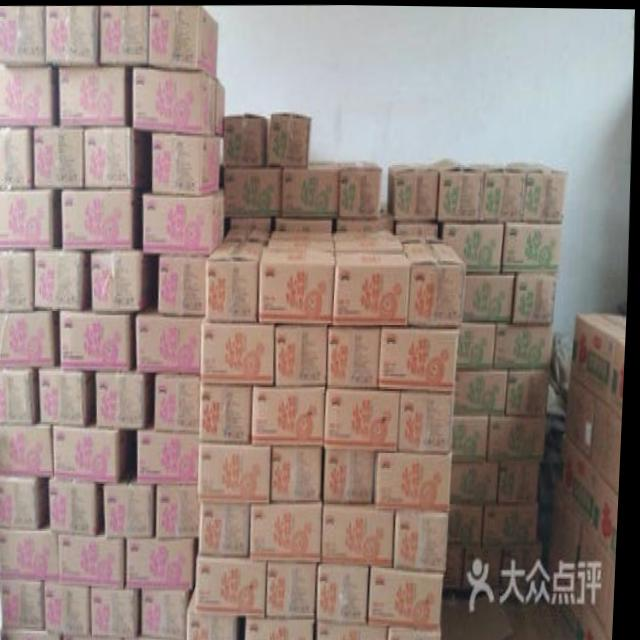box: (562, 431, 623, 560), (334, 240, 413, 327), (258, 243, 337, 324), (133, 64, 217, 137), (574, 311, 629, 417), (138, 293, 208, 372), (405, 240, 468, 327), (380, 325, 463, 391), (145, 188, 226, 254), (578, 518, 621, 640), (149, 4, 219, 77), (203, 318, 277, 386), (61, 306, 135, 372), (209, 239, 266, 324), (378, 447, 456, 509), (373, 564, 448, 628), (328, 387, 403, 451), (201, 440, 274, 505), (57, 419, 130, 483), (327, 500, 399, 564), (254, 385, 328, 446), (199, 554, 271, 616), (64, 186, 138, 246), (62, 523, 129, 589), (63, 523, 129, 589), (59, 62, 127, 126), (153, 128, 221, 192), (93, 246, 156, 312), (254, 503, 326, 560), (0, 517, 63, 581), (141, 421, 203, 485), (0, 308, 63, 368), (108, 465, 159, 538), (86, 126, 148, 186), (0, 187, 58, 251), (510, 158, 568, 222), (275, 321, 331, 386), (35, 246, 92, 308), (131, 536, 200, 587), (0, 65, 56, 127), (402, 389, 458, 451), (592, 392, 626, 494), (34, 123, 86, 189), (322, 560, 374, 626), (0, 419, 58, 477), (399, 508, 453, 570), (224, 160, 284, 215), (477, 158, 528, 222), (285, 157, 341, 215), (387, 159, 441, 219), (203, 384, 255, 446), (41, 366, 95, 425), (46, 5, 99, 65), (330, 326, 383, 385), (53, 477, 105, 536), (438, 156, 485, 221), (275, 445, 327, 503), (554, 487, 587, 578), (161, 254, 211, 314), (464, 269, 519, 323), (100, 372, 152, 429), (100, 5, 149, 64), (491, 414, 552, 461), (456, 365, 512, 416), (272, 561, 321, 618), (157, 372, 204, 431), (497, 320, 556, 367), (0, 5, 46, 65), (570, 580, 616, 640), (0, 477, 54, 528), (202, 501, 253, 555), (445, 222, 506, 267), (328, 449, 381, 500), (486, 499, 542, 547), (504, 222, 563, 267), (50, 581, 97, 637), (514, 267, 561, 323), (569, 371, 599, 456), (160, 482, 205, 538), (191, 591, 242, 640), (0, 366, 42, 424), (340, 157, 382, 215), (269, 113, 313, 168), (223, 113, 272, 162), (96, 587, 144, 636), (5, 579, 51, 630), (0, 123, 36, 187), (147, 587, 194, 636), (510, 363, 554, 414), (0, 251, 36, 310), (467, 547, 506, 600), (453, 461, 503, 502), (504, 544, 546, 591), (550, 544, 578, 614), (455, 412, 492, 462), (460, 321, 499, 366), (451, 500, 488, 547), (502, 461, 542, 502), (251, 616, 318, 640), (340, 208, 395, 232), (323, 622, 392, 640), (447, 547, 469, 602), (335, 227, 400, 245), (278, 215, 335, 232), (398, 212, 441, 233), (270, 230, 336, 243), (6, 626, 66, 640), (394, 626, 447, 640), (232, 213, 273, 228), (216, 79, 227, 134), (226, 228, 271, 239)
